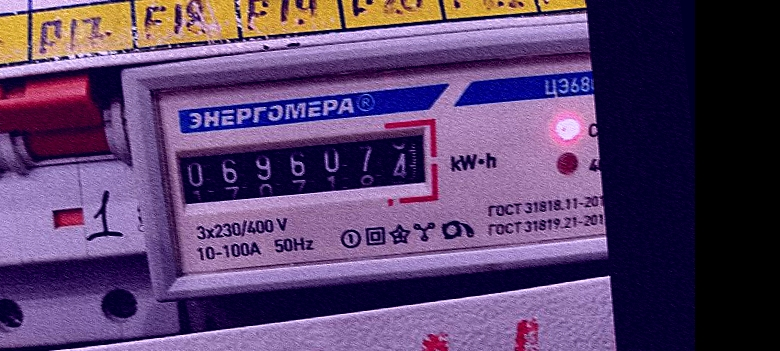0: (182, 157, 204, 187), (318, 144, 339, 172)
4: (386, 150, 407, 179)
6: (216, 155, 237, 183), (285, 147, 305, 176)
7: (353, 141, 374, 172)
9: (250, 152, 271, 181)
screen: (159, 113, 445, 224)
